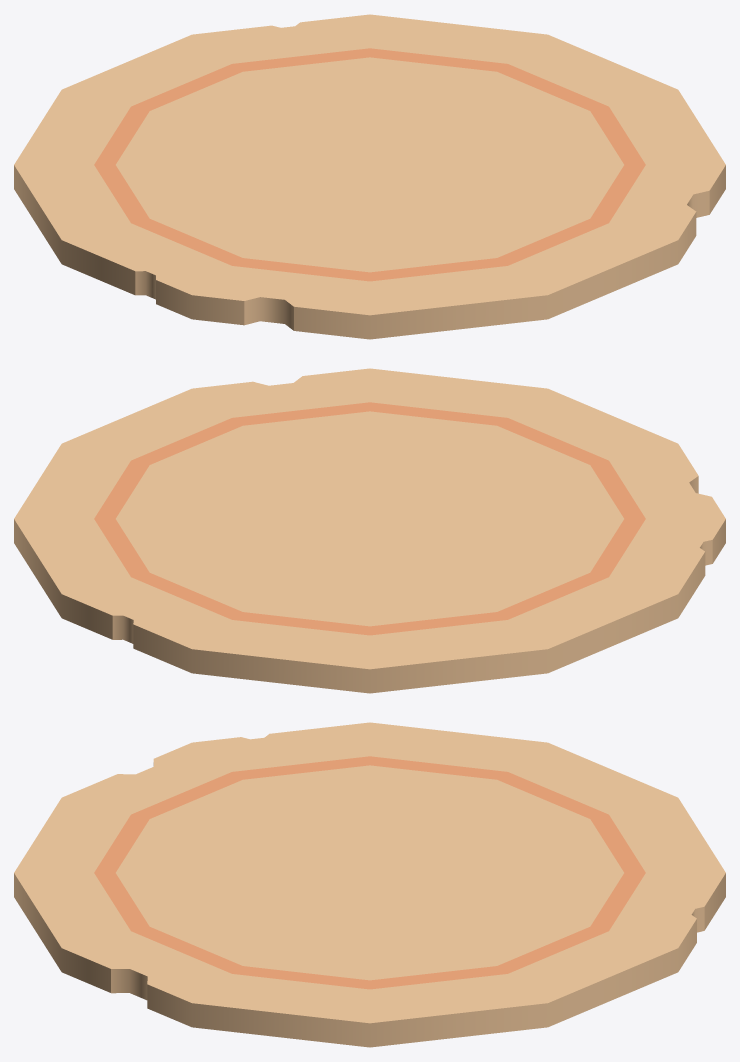
Rendered from cuttingBoardRound.GLB.
3 views of the same model, one above another, from view 1: azimuth 30°, elevation 25°; view 2: azimuth 150°, elevation 25°; view 3: azimuth 270°, elevation 25° (orthographic).
Parts seen in each view (by area): view 1: cuttingBoardRound; view 2: cuttingBoardRound; view 3: cuttingBoardRound.
Part boxes in pixels (x1,y1,x2,y2): cuttingBoardRound: (14, 14, 725, 339); cuttingBoardRound: (14, 368, 725, 693); cuttingBoardRound: (14, 722, 725, 1047).
Size of the model in its own units: 0.8 by 0.03 by 0.8.
